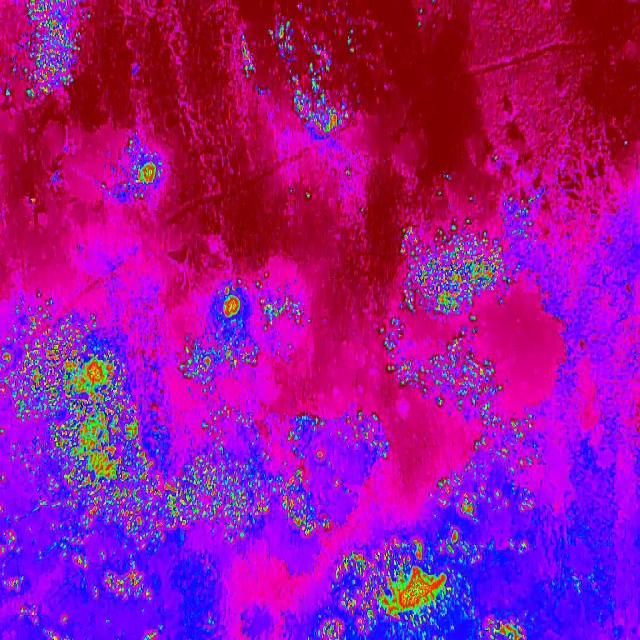fire: (0, 274, 318, 640), (318, 529, 558, 640), (382, 217, 514, 408), (244, 21, 358, 144), (0, 0, 91, 99), (318, 409, 386, 528), (430, 466, 552, 529), (103, 132, 165, 208), (468, 408, 546, 466)
